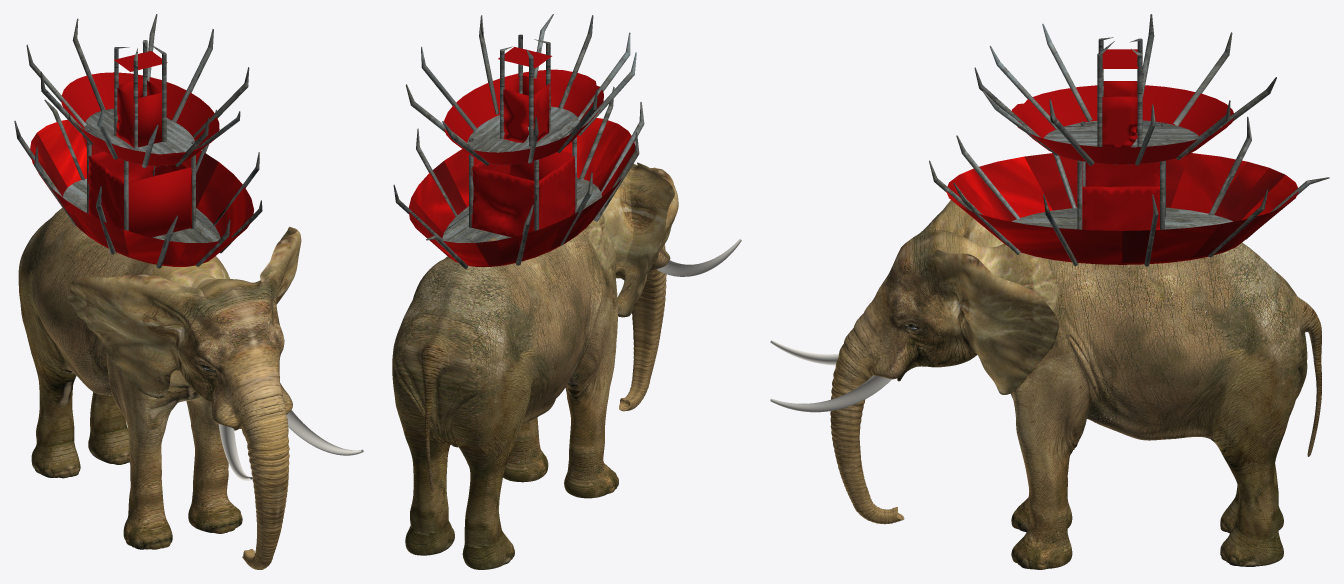
Rendered from Oliphant.fbx.
The picture shows the model from 3 angles, left to right: view 1: azimuth 30°, elevation 25°; view 2: azimuth 150°, elevation 25°; view 3: azimuth 270°, elevation 25°; orthographic projection. The views are drawn at different scales.
Visible parts, largest first — view 1: MainEleH, Cabina, Barra1, PaloBarra26, PaloBarra16, Suelo2, Palo23, Suelo1, EleTuskL, Palo11, EleTuskR; view 2: MainEleH, Cabina, Barra1, PaloBarra26, PaloBarra16, Suelo2, Suelo1, Palo23, Palo11, EleTuskR; view 3: MainEleH, Barra1, Cabina, PaloBarra26, PaloBarra16, Suelo2, Suelo1, Palo23, EleTuskL, Palo11.
Part boxes in pixels (bbox=[...]): MainEleH: bbox=[18, 208, 301, 569]; Cabina: bbox=[61, 51, 219, 237]; Barra1: bbox=[30, 119, 253, 266]; PaloBarra26: bbox=[26, 14, 249, 167]; PaloBarra16: bbox=[14, 99, 262, 268]; Suelo2: bbox=[84, 108, 194, 166]; Palo23: bbox=[114, 40, 166, 148]; Suelo1: bbox=[63, 178, 220, 242]; EleTuskL: bbox=[286, 410, 363, 455]; Palo11: bbox=[87, 128, 195, 230]; EleTuskR: bbox=[218, 424, 252, 480]; MainEleH: bbox=[392, 162, 678, 569]; Cabina: bbox=[444, 47, 603, 237]; Barra1: bbox=[408, 118, 634, 266]; PaloBarra26: bbox=[405, 14, 636, 165]; PaloBarra16: bbox=[393, 86, 644, 268]; Suelo2: bbox=[467, 106, 579, 164]; Suelo1: bbox=[442, 178, 601, 242]; Palo23: bbox=[500, 34, 550, 146]; Palo11: bbox=[469, 126, 576, 230]; EleTuskR: bbox=[656, 239, 741, 276]; MainEleH: bbox=[830, 200, 1321, 569]; Barra1: bbox=[946, 153, 1298, 264]; Cabina: bbox=[1011, 49, 1233, 230]; PaloBarra26: bbox=[974, 14, 1276, 165]; PaloBarra16: bbox=[929, 116, 1329, 266]; Suelo2: bbox=[1043, 120, 1198, 164]; Suelo1: bbox=[1011, 207, 1232, 229]; Palo23: bbox=[1097, 37, 1142, 146]; EleTuskL: bbox=[770, 375, 891, 412]; Palo11: bbox=[1077, 121, 1165, 229].
Size of the model in its own units: 468 by 959 by 970.
